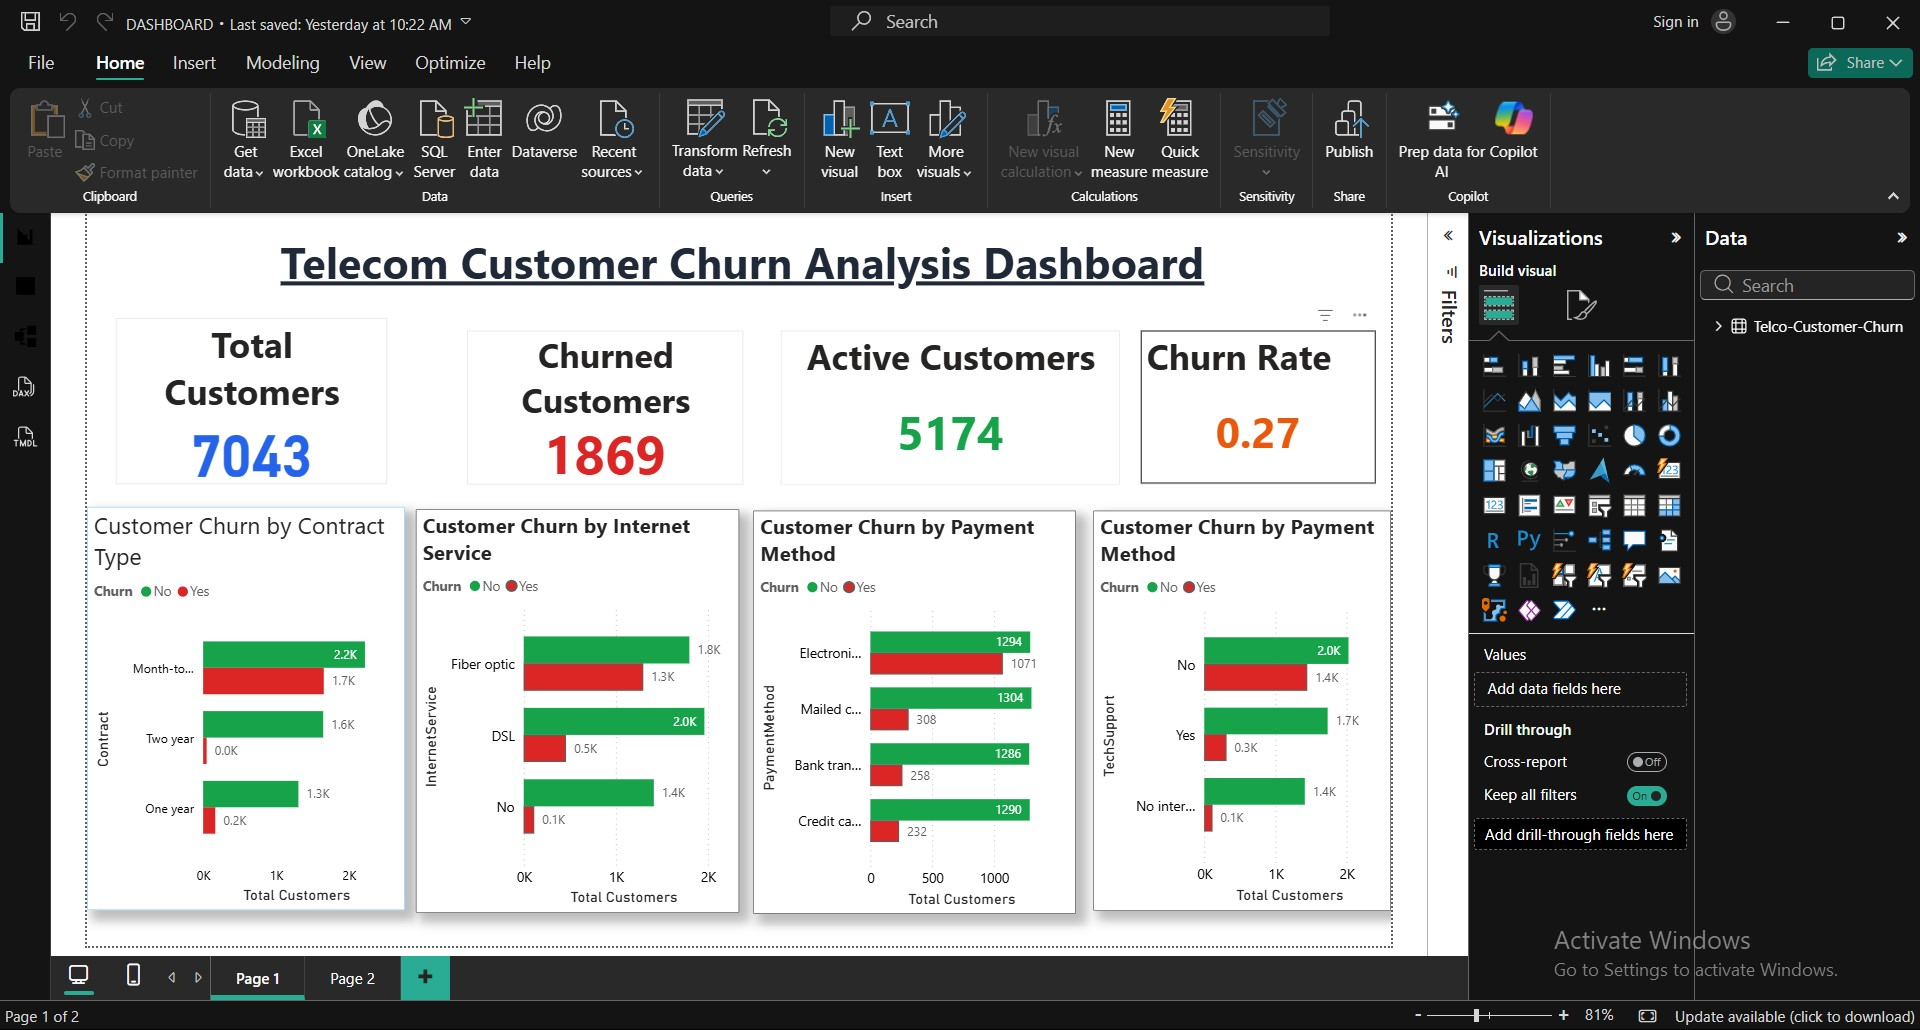

Layout of this report page (visuals, bound fields, positions):
{"tool":"powerbi","page":{"name":"Page 1","canvas":[1280,720],"ordinal":0},"visuals":[{"type":"card","title":"Total Customers","fields":{"Values":["Telco-Customer-Churn.Total Customers"]},"box":[28.2,103.1,266.3,163.2],"z":0},{"type":"textbox","box":[168.8,13.7,948.2,89.2],"z":1},{"type":"card","title":"Churned Customers","fields":{"Values":["Telco-Customer-Churn.Churned Customers"]},"box":[373,115.3,271.2,150.9],"z":2},{"type":"card","title":"Active Customers","fields":{"Values":["Telco-Customer-Churn.Active Customers"]},"box":[681,115.3,332.5,150.9],"z":3},{"type":"card","title":"Churn Rate","fields":{"Values":["Telco-Customer-Churn.Churn Rate"]},"box":[1034.4,115.3,230.7,150.9],"z":4},{"type":"clusteredBarChart","title":"Customer Churn by Contract Type","fields":{"Category":["Telco-Customer-Churn.Contract"],"Y":["Telco-Customer-Churn.Total Customers"],"Series":["Telco-Customer-Churn.Churn"]},"box":[0,288.3,311.7,396.3],"z":5},{"type":"clusteredBarChart","title":"Customer Churn by Internet Service","fields":{"Category":["Telco-Customer-Churn.InternetService"],"Y":["Telco-Customer-Churn.Total Customers"],"Series":["Telco-Customer-Churn.Churn"]},"box":[322.7,290.8,317.8,396.3],"z":6},{"type":"clusteredBarChart","title":"Customer Churn by Payment Method","fields":{"Category":["Telco-Customer-Churn.PaymentMethod"],"Y":["Telco-Customer-Churn.Total Customers"],"Series":["Telco-Customer-Churn.Churn"]},"box":[654,292,316.6,396.3],"z":7},{"type":"clusteredBarChart","title":"Customer Churn by Payment Method","fields":{"Category":["Telco-Customer-Churn.TechSupport"],"Y":["Telco-Customer-Churn.Total Customers"],"Series":["Telco-Customer-Churn.Churn"]},"box":[987.7,292,292,392.6],"z":8}]}

Visuals, with their boxes on the page's 1280x720 design canvas (x1, y1, x2, y2). These are canvas units, not pixel positions in the 1920x1030 screenshot, which may show the page scaled, cropped or inside an application window:
"Total Customers" card: (x1=28, y1=103, x2=294, y2=266)
textbox: (x1=169, y1=14, x2=1117, y2=103)
"Churned Customers" card: (x1=373, y1=115, x2=644, y2=266)
"Active Customers" card: (x1=681, y1=115, x2=1014, y2=266)
"Churn Rate" card: (x1=1034, y1=115, x2=1265, y2=266)
"Customer Churn by Contract Type" clusteredBarChart: (x1=0, y1=288, x2=312, y2=685)
"Customer Churn by Internet Service" clusteredBarChart: (x1=323, y1=291, x2=640, y2=687)
"Customer Churn by Payment Method" clusteredBarChart: (x1=654, y1=292, x2=971, y2=688)
"Customer Churn by Payment Method" clusteredBarChart: (x1=988, y1=292, x2=1280, y2=685)
